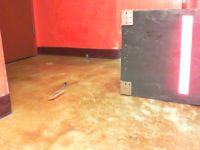switch: (178, 15, 193, 95)
